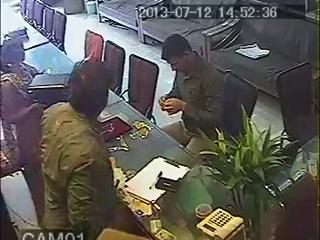Normal: (38, 60, 150, 240), (156, 34, 224, 146)
